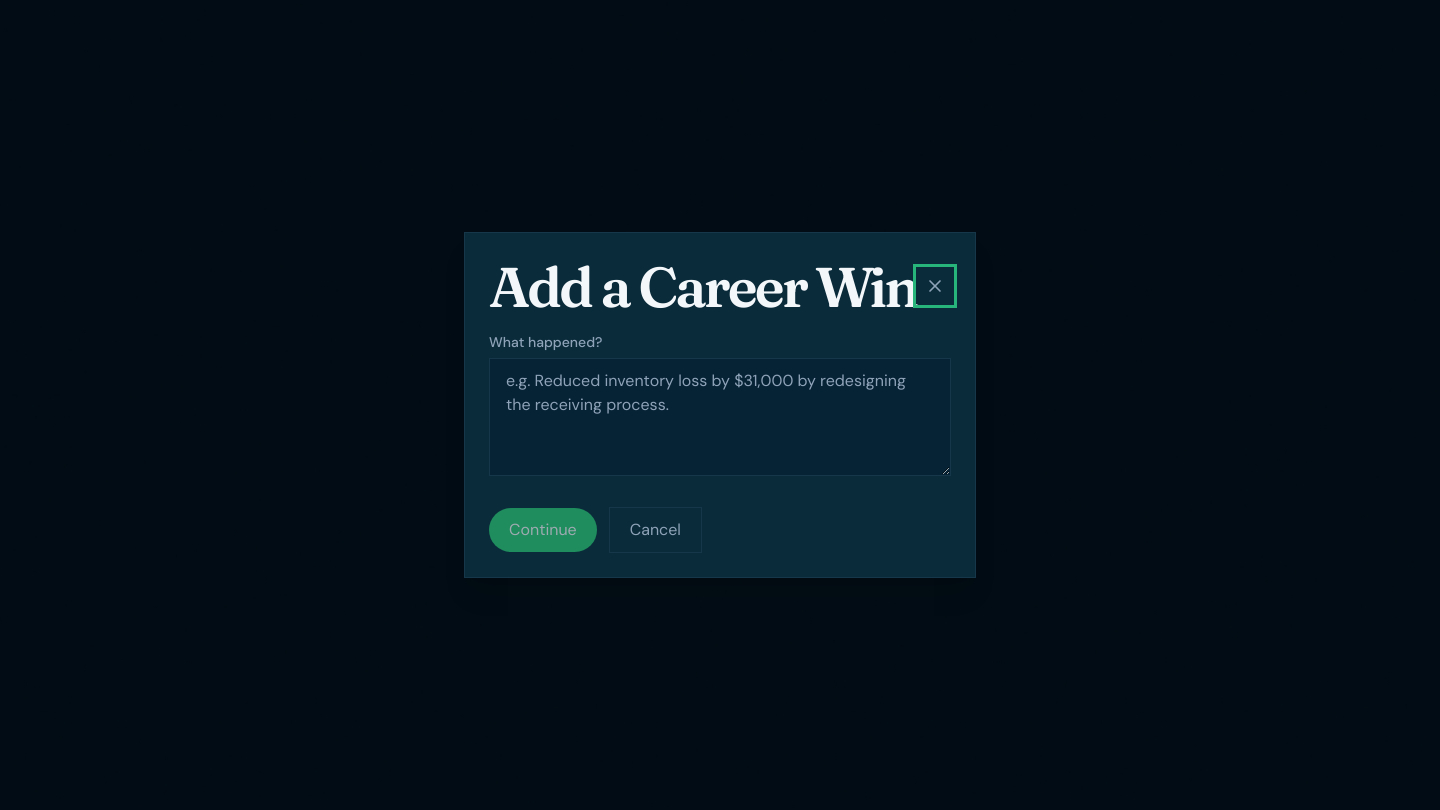
Scenario: AddCareerWinModal › shows the detected metric and pre-checked capability suggestions after Continue
Replace the text in the text box labelled "What happened?" with "Reduced inventory loss by $31,000." at (720, 417), box [489, 358, 951, 476]
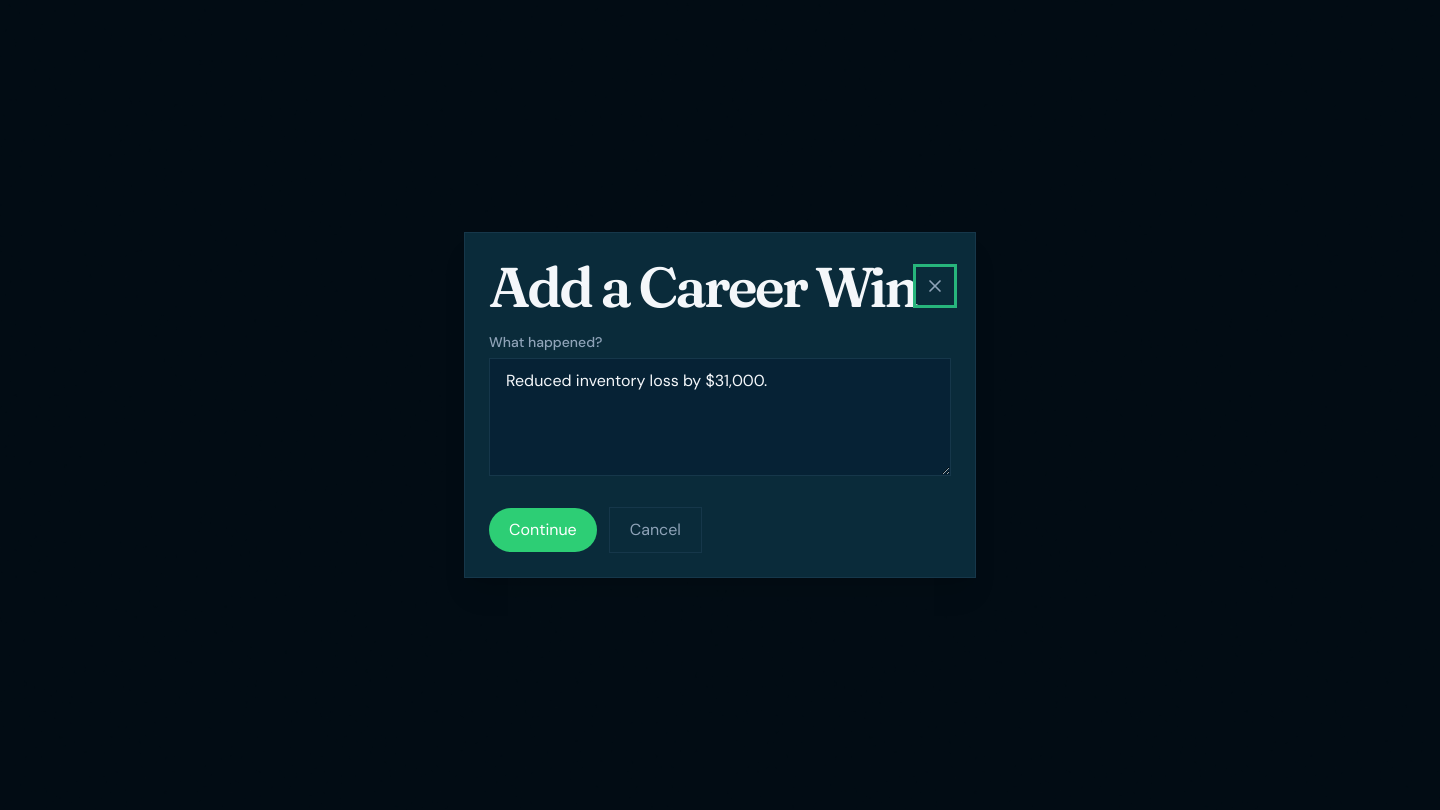
Click the button "Continue".
click(543, 530)  # box [489, 508, 597, 552]
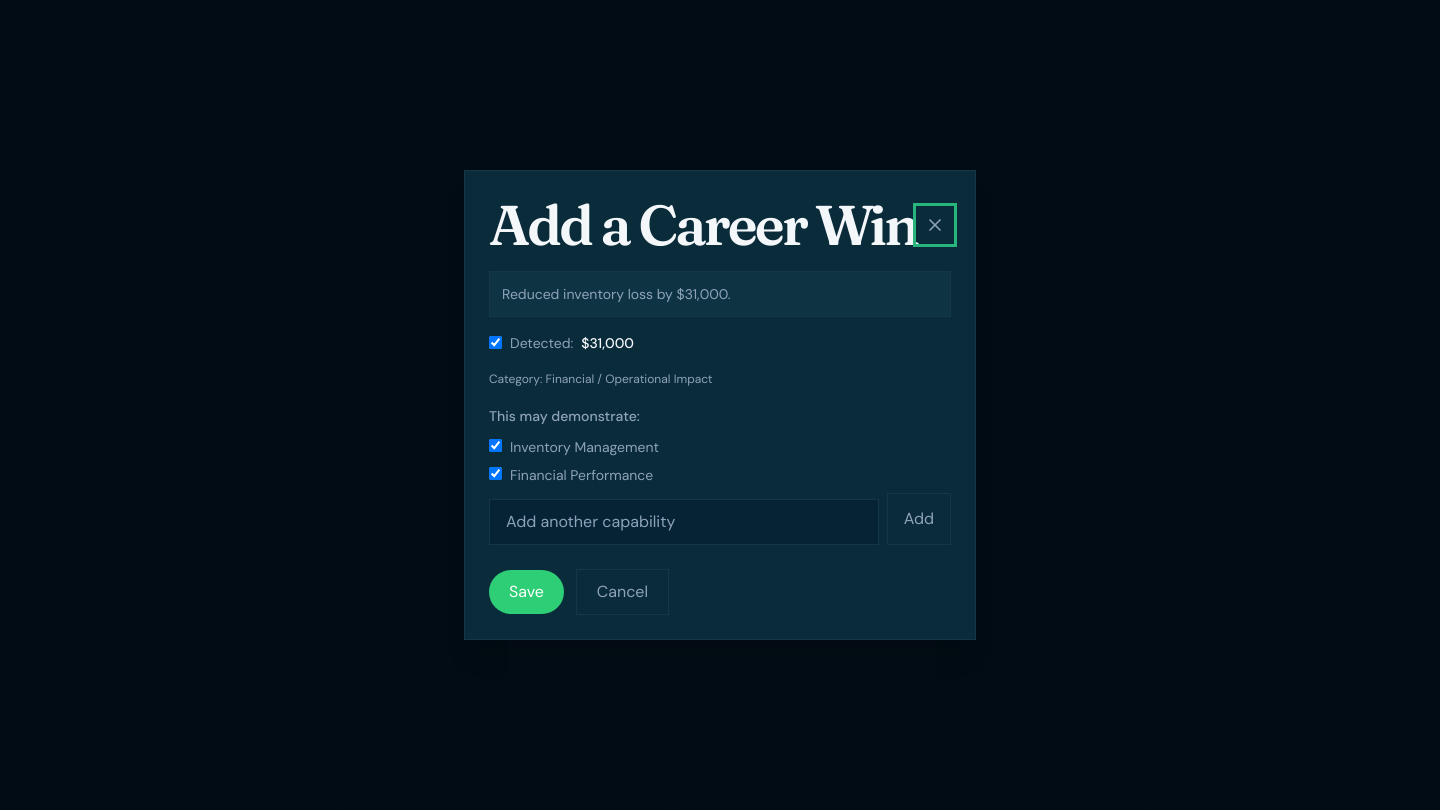
Expected: the text "$31,000" is shown, [581, 333, 634, 353]
Expected: the checkbox labelled "Inventory Management" is checked, [489, 439, 502, 452]
